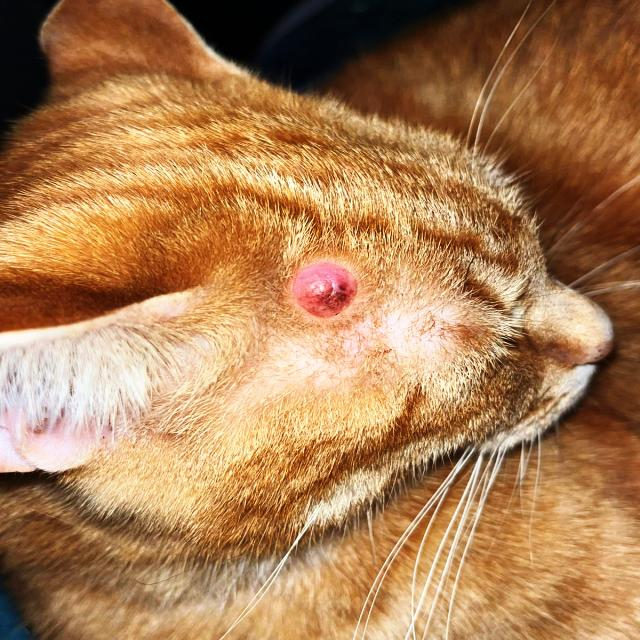lump_and_bump: (286, 260, 359, 319)
